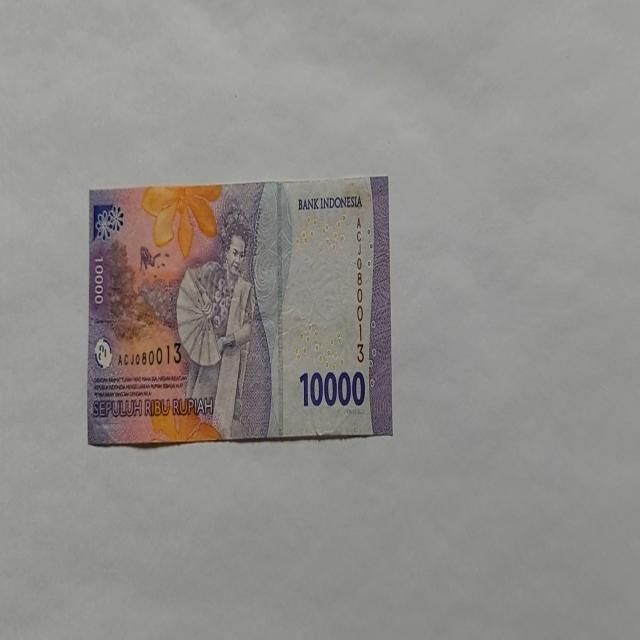sepuluh ribu rupiah: (86, 175, 392, 447)
